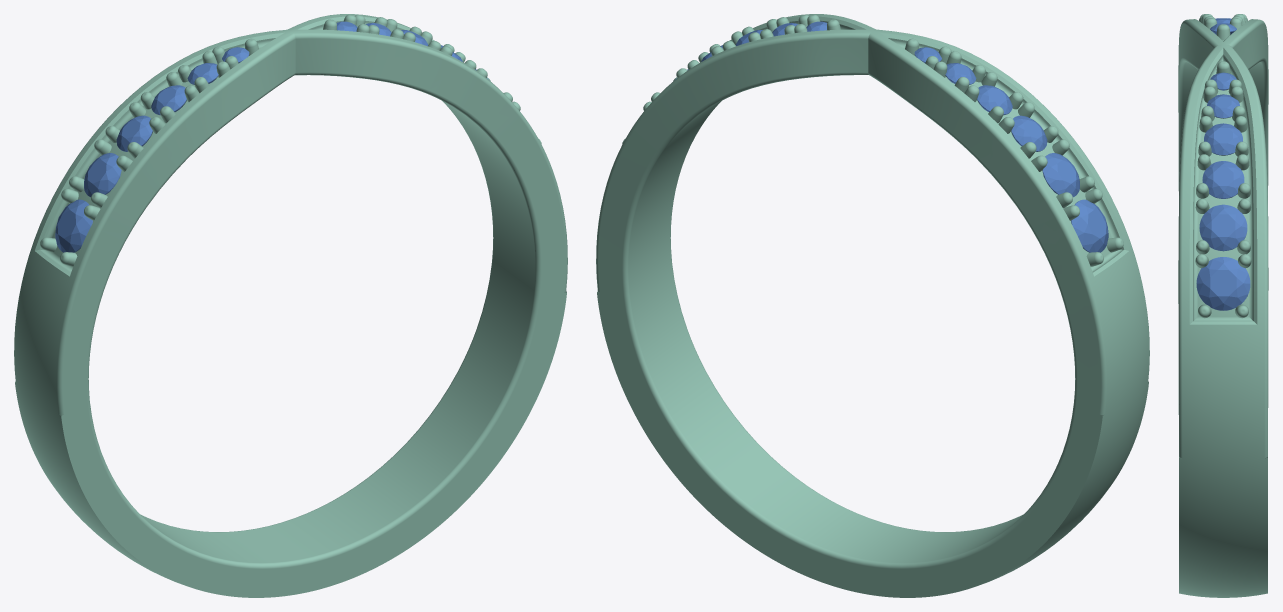
3 views of the same model, side by side, from view 1: azimuth 30°, elevation 25°; view 2: azimuth 150°, elevation 25°; view 3: azimuth 270°, elevation 25° (orthographic). The views are drawn at different scales.
Parts seen in each view (by area): view 1: mp - 143.3dm, Gem (×4); view 2: mp - 143.3dm, Gem (×3); view 3: mp - 143.3dm, Gem (×6).
Part boxes in pixels (bbox=[...]): mp - 143.3dm: bbox=[14, 14, 567, 597]; Gem (×4): bbox=[55, 85, 186, 252]; mp - 143.3dm: bbox=[596, 14, 1149, 597]; Gem (×3): bbox=[1011, 115, 1108, 252]; mp - 143.3dm: bbox=[1178, 14, 1268, 597]; Gem (×6): bbox=[1196, 72, 1250, 310].
Size of the model in its own units: 2.79 by 2.83 by 0.4375.
